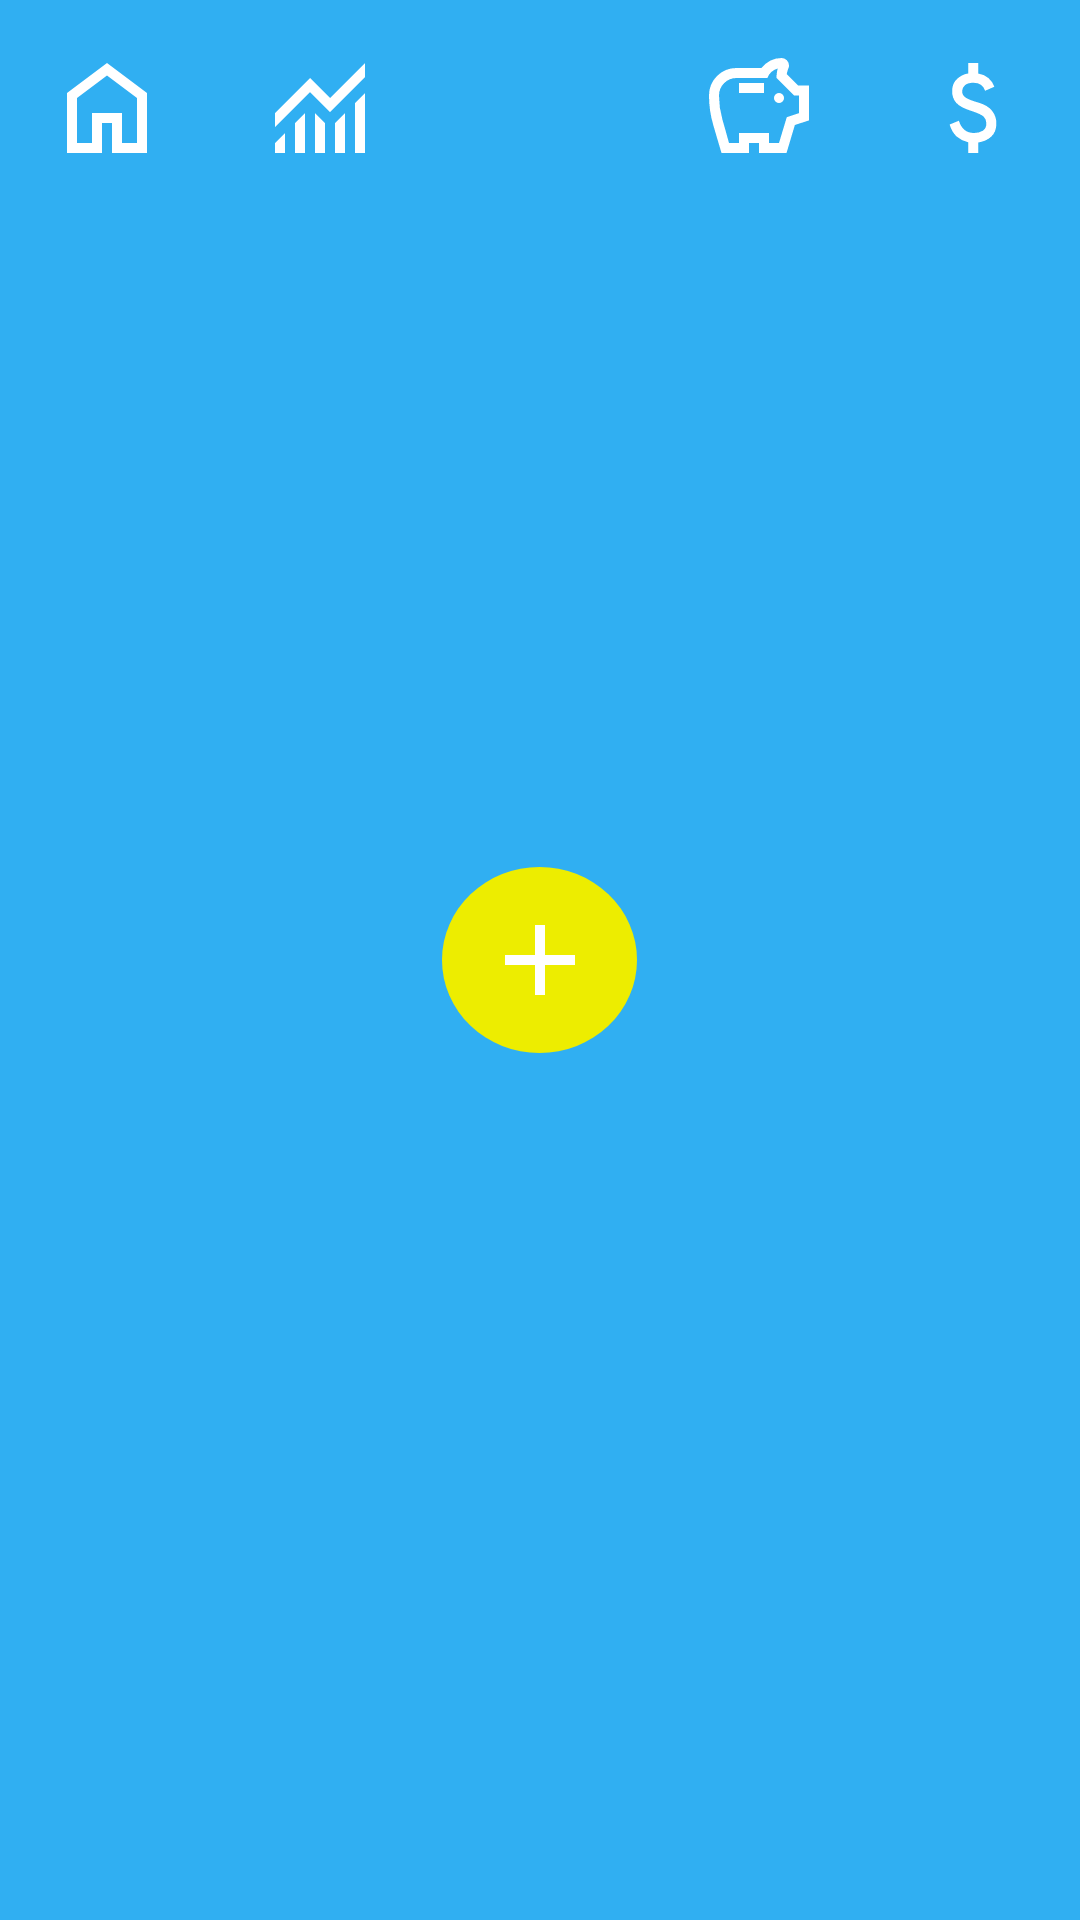

Icon bounding boxes for this 1080*1920 phone screenshot, format (x1, y1, x2, y2):
add: (442, 867, 637, 1053)
attach money: (949, 63, 997, 153)
home: (67, 63, 147, 153)
monitoring: (275, 63, 365, 153)
savings: (709, 58, 809, 153)
